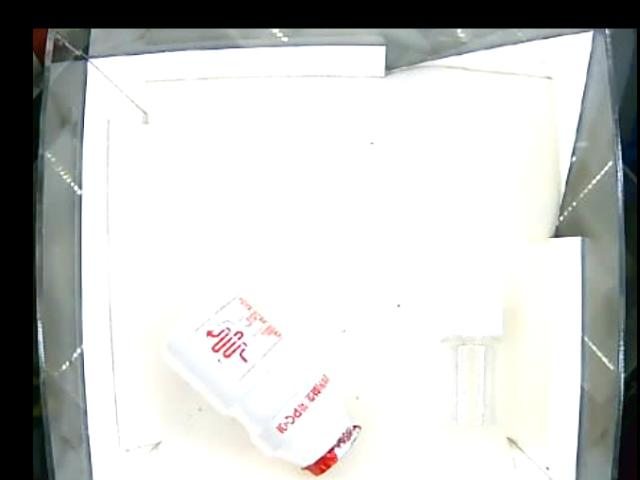Bottle: (167, 284, 363, 475), (436, 296, 502, 436)
